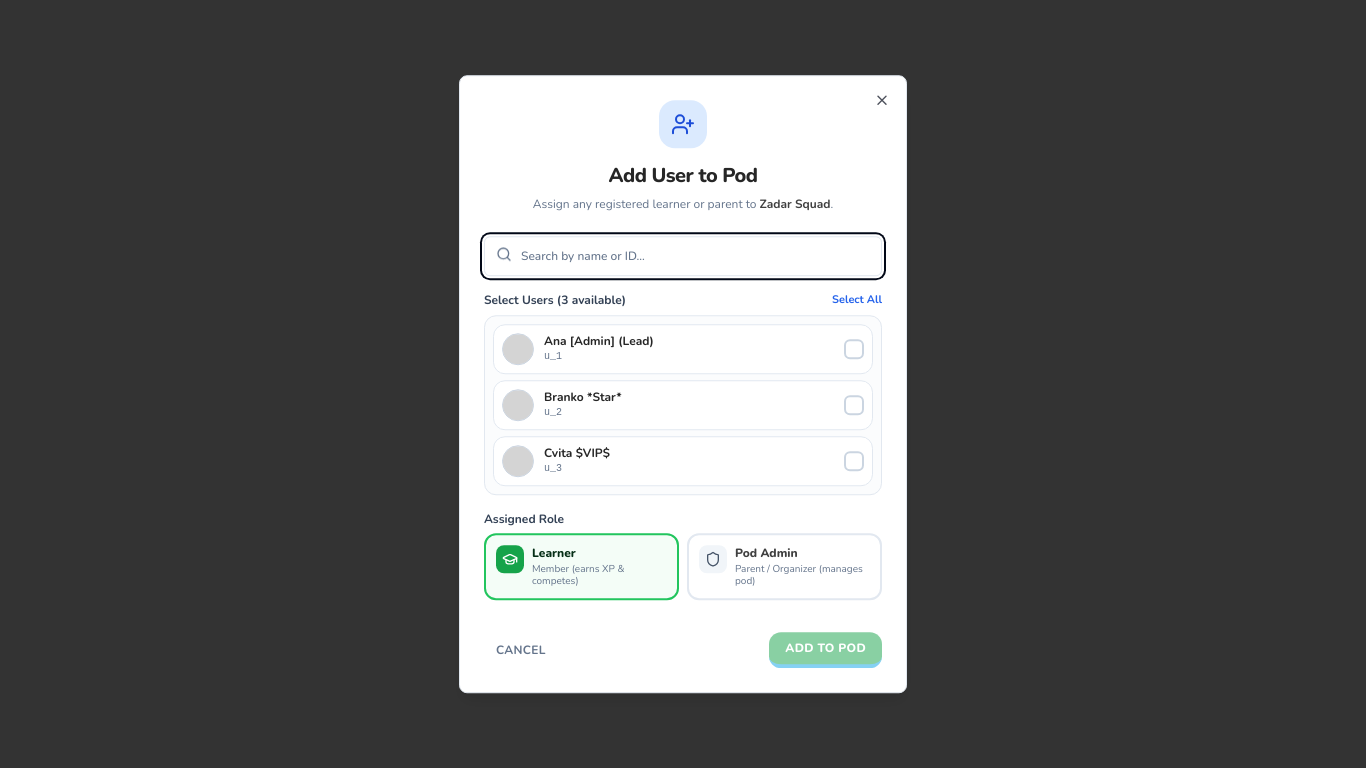
Scenario: Adversarial Stress Test Suite: Milestone 2 Verification › AddMemberToPodModal: Regex Injection, Server Errors & All-Member Bound › safely handles regex special characters in search input without crashing
This screenshot has width=1366, height=768.
Type "[Admin]" into the field with placeholder "Search by name or ID...".
click(683, 256); type("[Admin]")  # box [484,236,882,276]
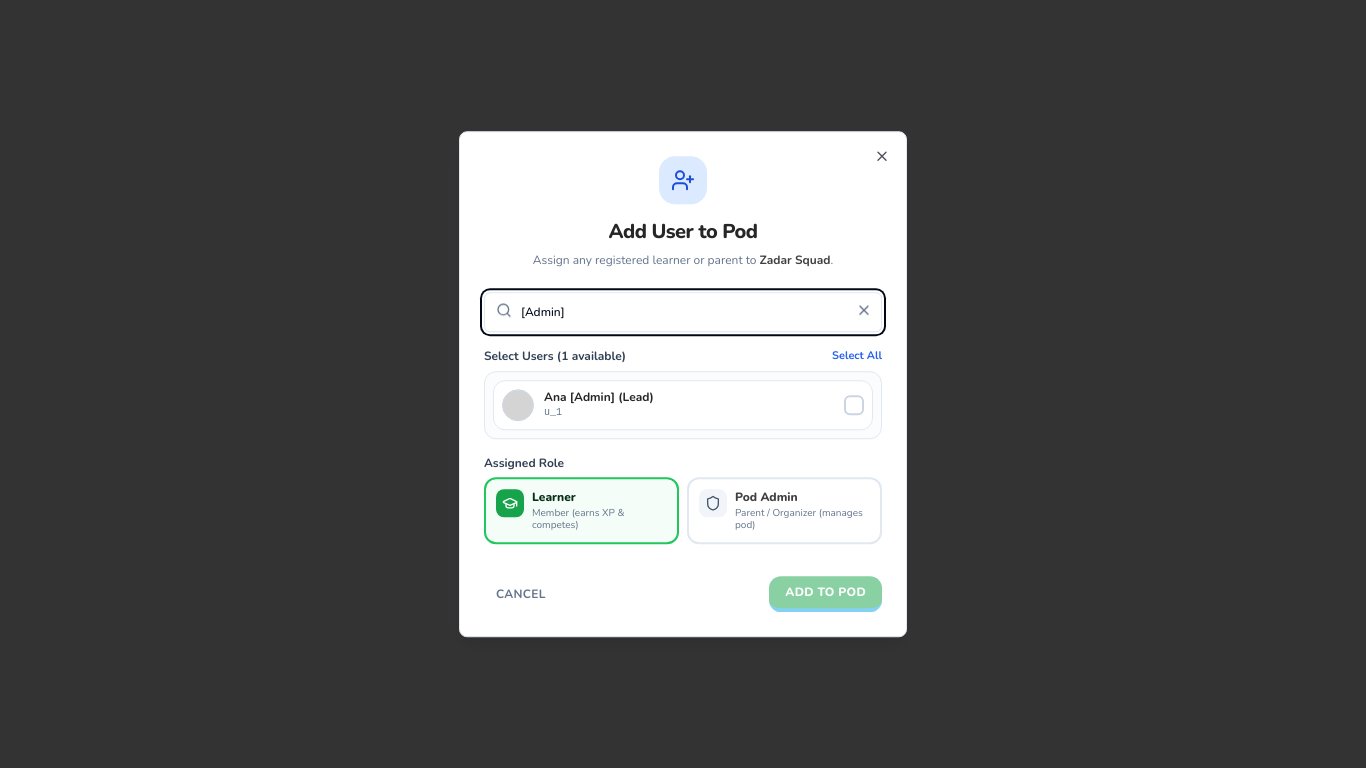
expect the text "Ana [Admin] (Lead)" is shown: met, box [544,389,654,405]
expect the button "Branko *Star*" is gone: met
// Test other regex symbols: * and $
Replace the text in the field with placeholder "Search by name or ID..." with "*Star*" at (683, 312), box [484,292,882,332]
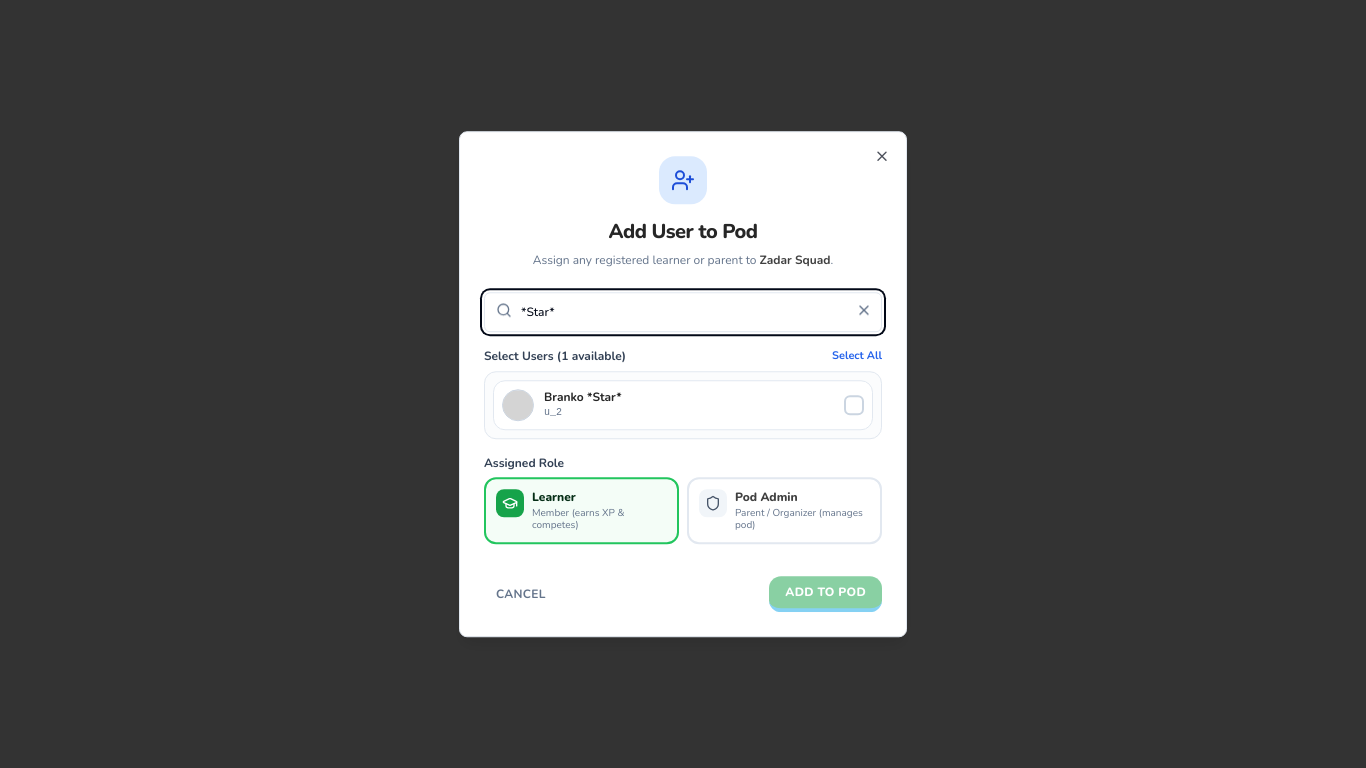
expect the text "Branko *Star*" is shown: met, box [544,389,622,405]
expect the button "Ana [Admin] (Lead)" is gone: met
